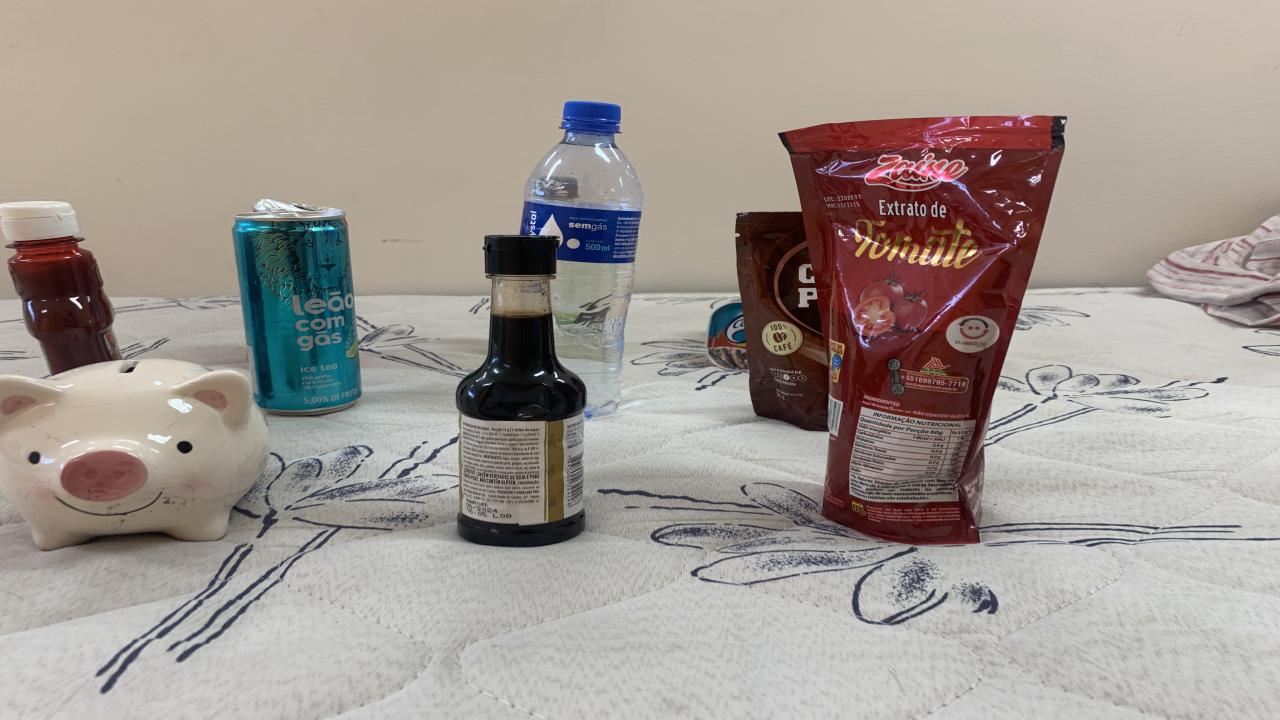Coffee-Pantry_Items: (735, 212, 828, 431)
English_Sauce-Pantry_Items: (458, 236, 585, 546)
Ketchup-Pantry_Items: (0, 201, 120, 373)
Pig_Safe-Miscellaneous: (0, 358, 270, 549)
Tea-Drinks: (232, 201, 360, 414)
Tomato_Sauce-Pantry_Items: (780, 116, 1065, 544)
Tuna_Can-Pantry_Items: (708, 302, 748, 371)
Water_Bottle-Drinks: (520, 101, 642, 418)
